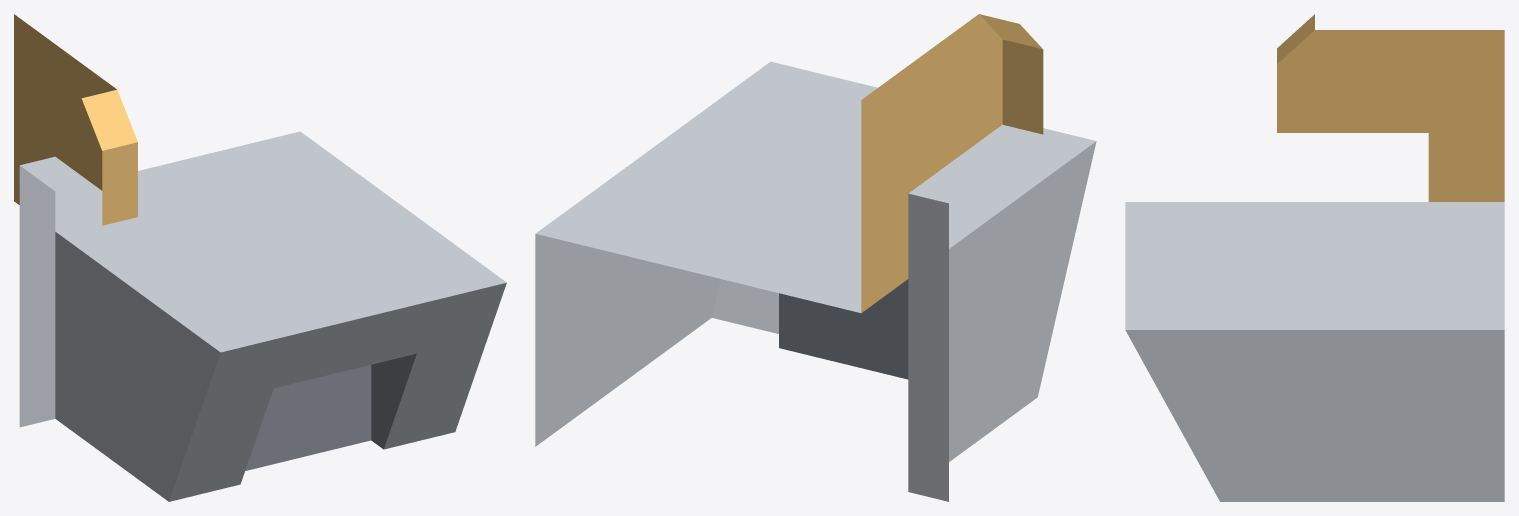
The picture shows the model from 3 angles, left to right: view 1: azimuth 30°, elevation 25°; view 2: azimuth 150°, elevation 25°; view 3: azimuth 270°, elevation 25°; orthographic projection. The views are drawn at different scales.
Size of the model in its own units: 0.9 by 1 by 1.
